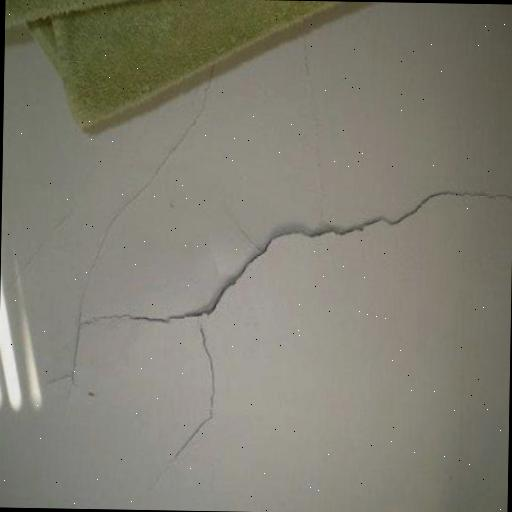spalling: (88, 179, 494, 328), (68, 127, 186, 386), (168, 329, 222, 462)
